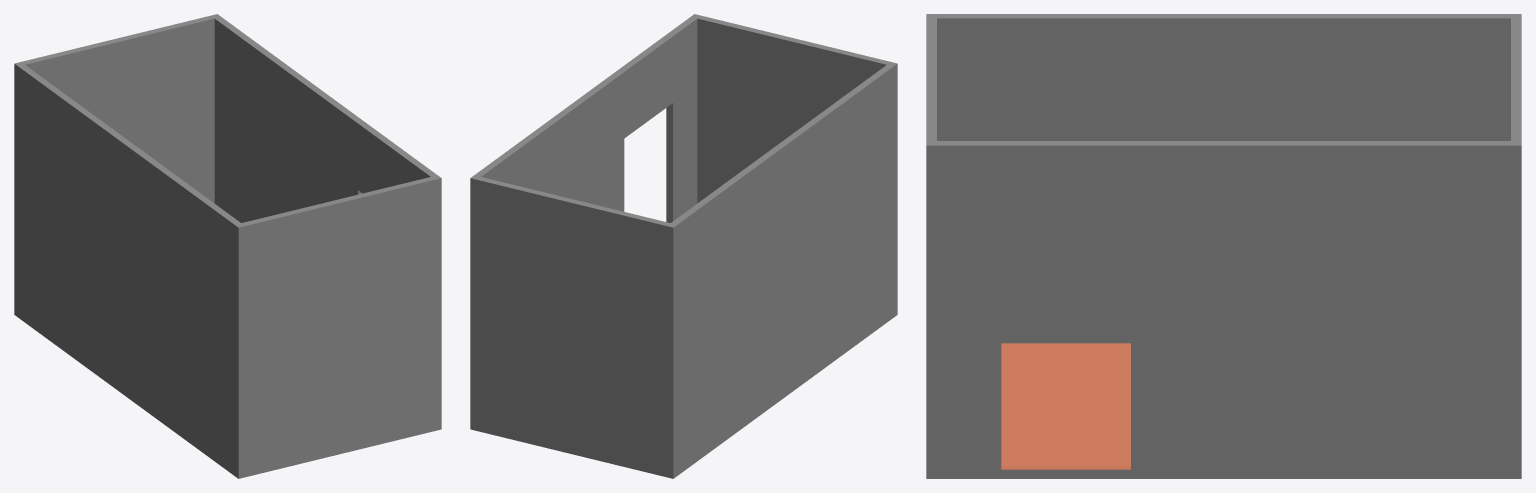
File: RoomNew.fbx
3 views of the same model, side by side, from view 1: azimuth 30°, elevation 25°; view 2: azimuth 150°, elevation 25°; view 3: azimuth 270°, elevation 25° (orthographic). The views are drawn at different scales.
Visible parts, largest first — view 1: NewRoom_Centred; view 2: NewRoom_Centred; view 3: NewRoom_Centred.
Boxes of the visible parts, bbox=[...] form: NewRoom_Centred: bbox=[14, 14, 441, 478]; NewRoom_Centred: bbox=[470, 14, 897, 478]; NewRoom_Centred: bbox=[926, 14, 1521, 478].
Size of the model in its own units: 305 by 360 by 582.
